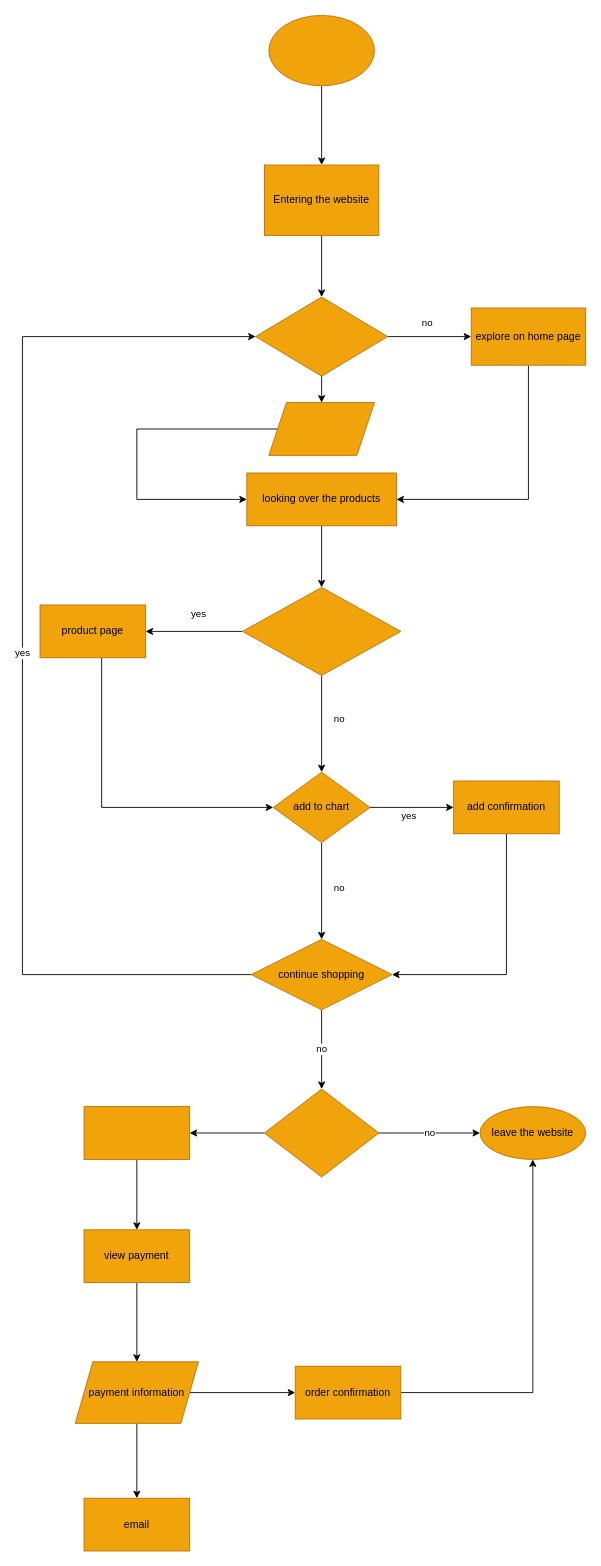
The diagram is 601 pixels wide and 1566 high, and some of its shapes have lost their labels. Each missing label, with the box of its shape:
check out: (264, 1088, 379, 1177)
input for search: (268, 402, 374, 455)
Search for the product: (255, 296, 388, 376)
Start: (268, 15, 374, 86)
view cart: (83, 1106, 190, 1159)
viewing a specific product: (242, 587, 401, 675)
